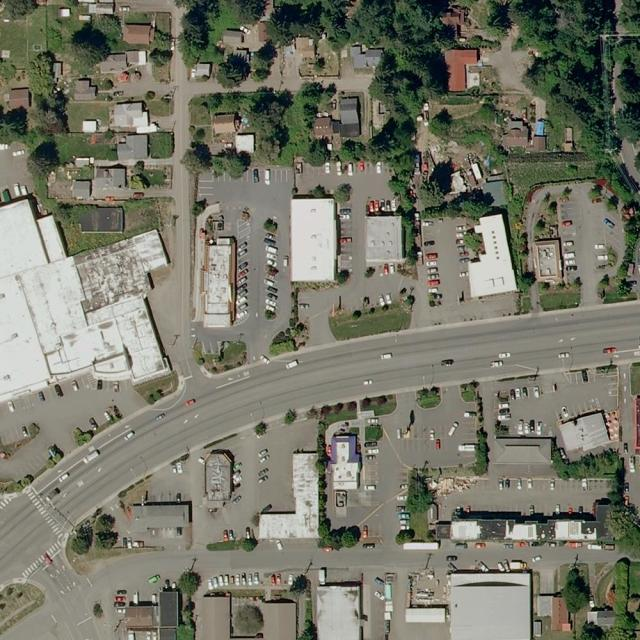building: (450, 570, 532, 640), (259, 451, 319, 539), (459, 213, 518, 298), (289, 197, 338, 282), (316, 585, 361, 639), (203, 242, 235, 316), (363, 215, 403, 265)
greenland: (348, 0, 453, 117), (266, 0, 351, 46)
